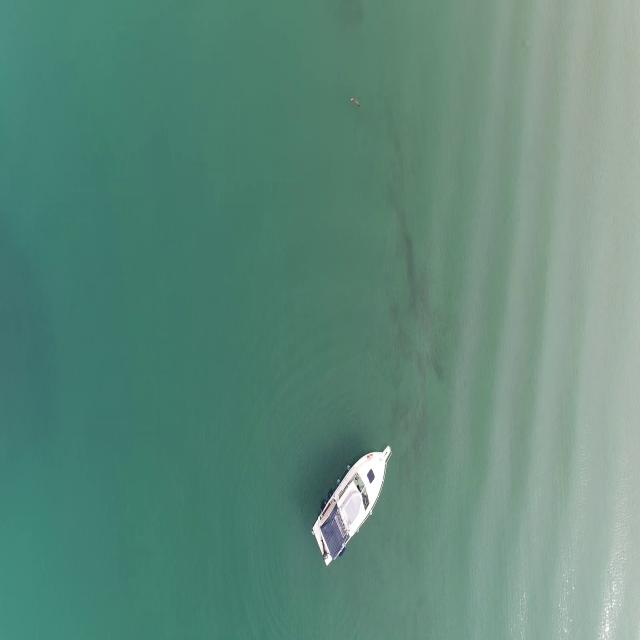boat: (313, 440, 392, 573)
wood: (350, 95, 362, 109)
